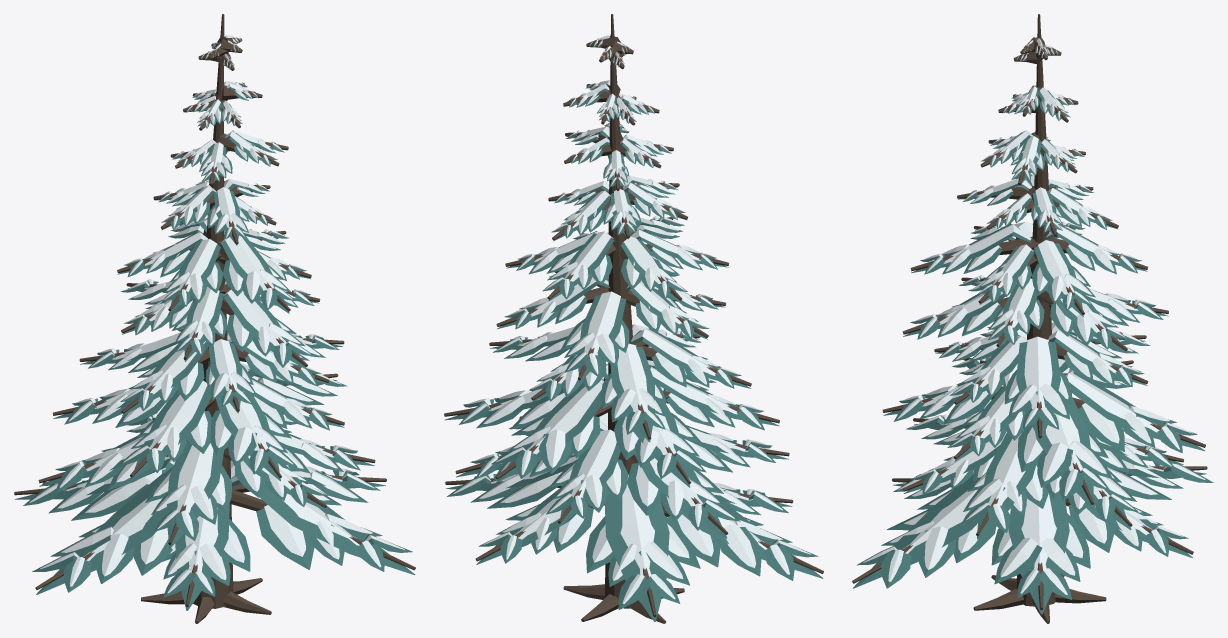
File: TREE_10_FirMediumSnowy.glb
3 views of the same model, side by side, from view 1: azimuth 30°, elevation 25°; view 2: azimuth 150°, elevation 25°; view 3: azimuth 270°, elevation 25° (orthographic).
Visible parts, largest first — view 1: TREE_10_FirMediumSnowy; view 2: TREE_10_FirMediumSnowy; view 3: TREE_10_FirMediumSnowy.
Boxes of the visible parts, <box> form: TREE_10_FirMediumSnowy: <box>14,14,415,623</box>; TREE_10_FirMediumSnowy: <box>444,14,823,623</box>; TREE_10_FirMediumSnowy: <box>852,14,1213,623</box>.
Size of the model in its own units: 4.45 by 6.82 by 3.78.
